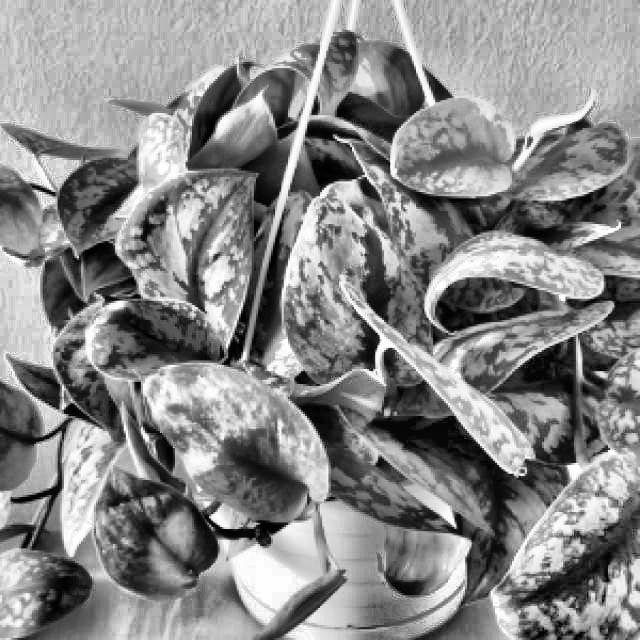plants: (0, 49, 638, 638)
